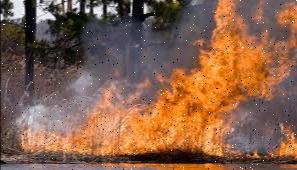fire: (7, 0, 297, 158)
